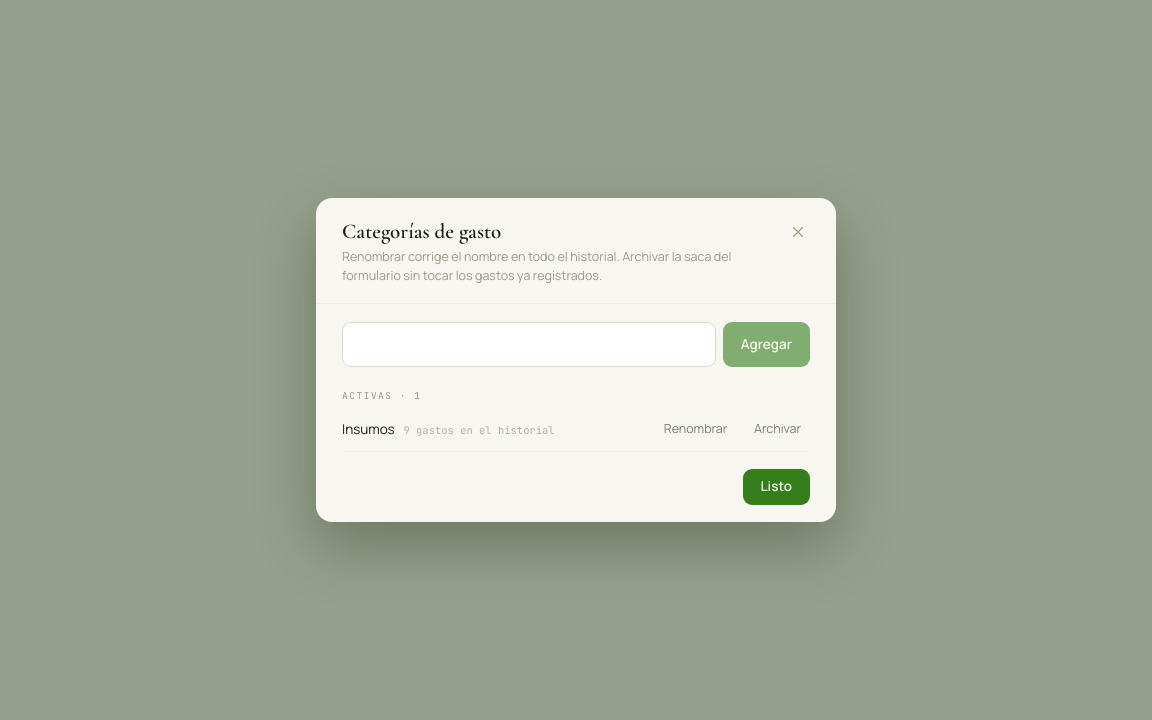
Scenario: CategoryManagerModal › archiving › says so plainly when nothing was spent on it this month
Click the button with aria-label "Archivar Insumos".
click(778, 430)  # box [745,417,810,442]
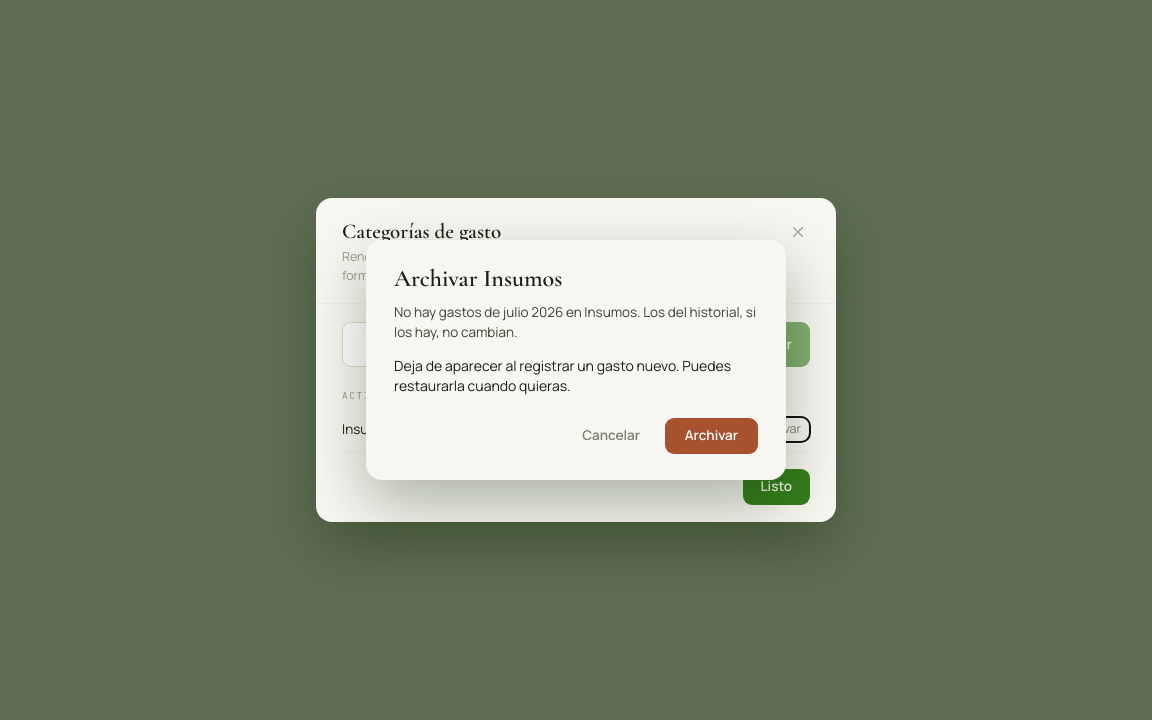
Expected: the text "No hay gastos de julio 2026 en Insumos. Los del historial, si los hay, no cambian." is shown, [394,302,756,341]
